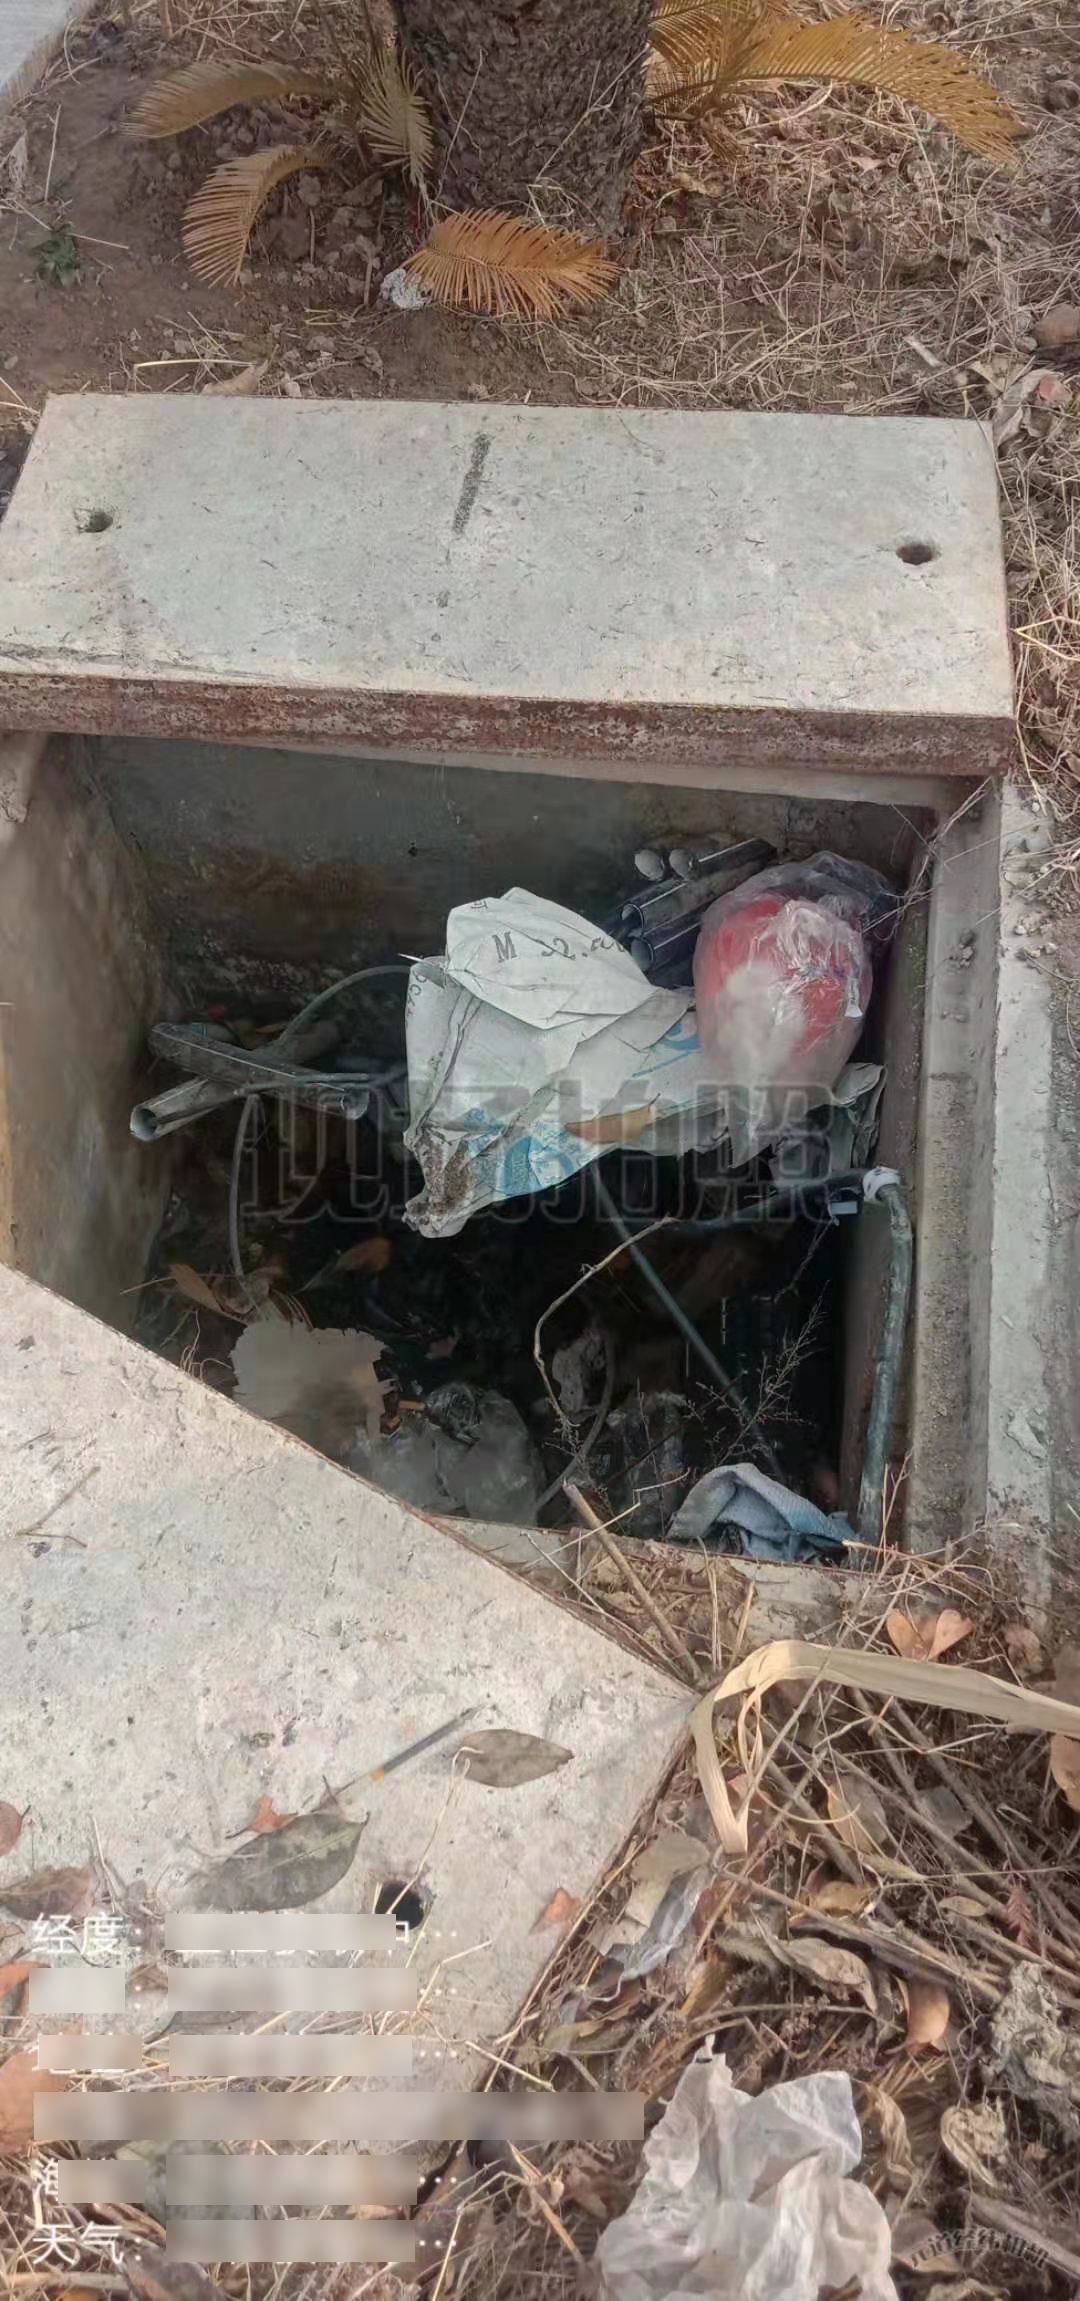uncovered: (4, 376, 1080, 1602)
